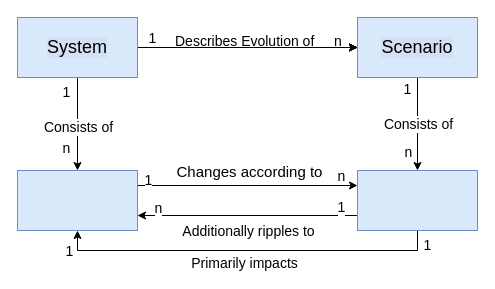
The diagram is 495 pixels wide and 289 high, and some of its shapes have lost their labels. Each missing label, with the box of its shape:
Change: (356, 170, 478, 230)
Service: (16, 170, 138, 230)
